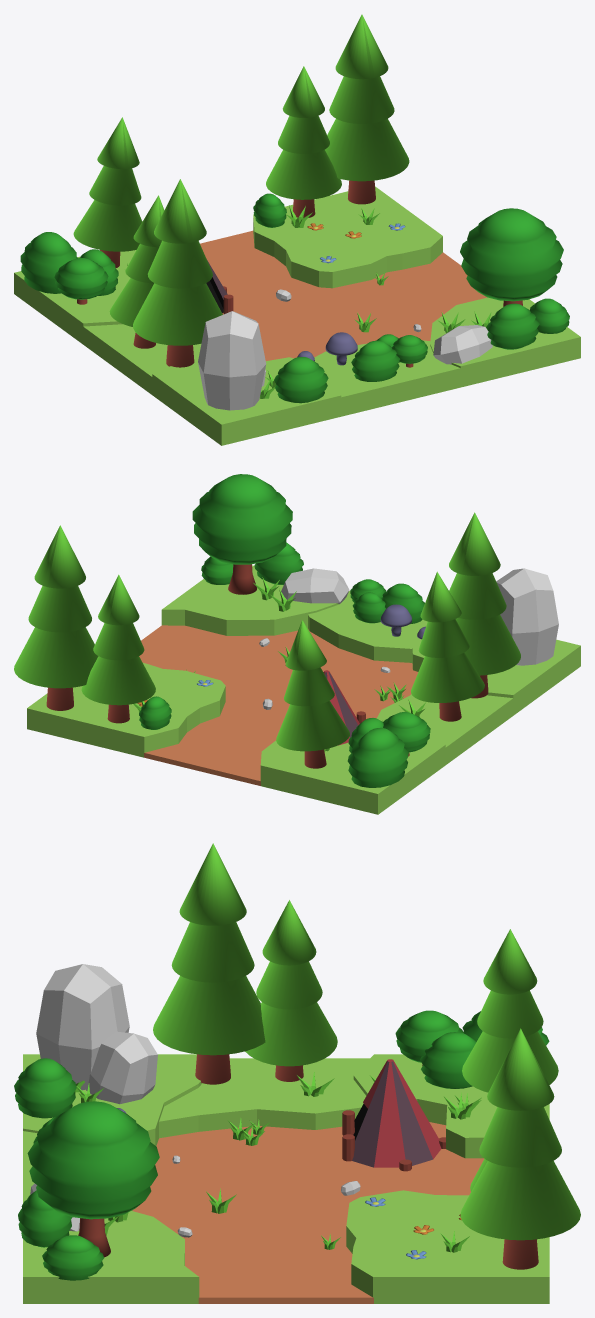
Rendered from jungle level set - 2 Way (1).fbx.
3 renders of one model, top to bottom at view 1: azimuth 30°, elevation 25°; view 2: azimuth 150°, elevation 25°; view 3: azimuth 270°, elevation 25°, orthographic. The views are drawn at different scales.
Visible parts, largest first — view 1: land_platform, tree_001, tree_006, tree_003, tree, tree_002, stone, tree_005, bush_003, bush_005, bush_004, tree_004 (+8 smaller); view 2: land_platform, tree_001, tree_003, tree_006, tree_005, tree, tree_002, stone, bush_003, stone_004, tree_004, bush_004 (+8 smaller); view 3: land_platform, tree_001, tree_006, tree_003, tree_005, stone, tree_002, camp, stone_001, bush_005, bush_001, bush (+2 smaller).
Boxes of the visible parts, x1,y1,x2,y2 form: land_platform: (14, 186, 580, 445); tree_001: (325, 14, 409, 204); tree_006: (133, 179, 222, 367); tree_003: (460, 208, 563, 306); tree: (266, 66, 341, 217); tree_002: (73, 117, 142, 267); stone: (198, 311, 266, 410); tree_005: (109, 195, 164, 348); bush_003: (20, 232, 77, 293); bush_005: (274, 357, 328, 403); bush_004: (486, 303, 539, 349); tree_004: (54, 258, 108, 304); land_platform: (27, 565, 580, 814); tree_001: (14, 525, 98, 710); tree_003: (192, 474, 292, 594); tree_006: (449, 512, 520, 698); tree_005: (411, 571, 484, 721); tree: (81, 574, 155, 723); tree_002: (276, 620, 349, 768); stone: (496, 568, 558, 665); bush_003: (347, 727, 408, 787); stone_004: (281, 568, 349, 603); tree_004: (383, 712, 430, 756); bush_004: (254, 542, 303, 584); land_platform: (23, 1054, 549, 1303); tree_001: (460, 1028, 580, 1269); tree_006: (153, 843, 265, 1084); tree_003: (27, 1101, 159, 1257); tree_005: (245, 900, 337, 1081); stone: (36, 964, 129, 1090); tree_002: (462, 929, 558, 1092); camp: (342, 1059, 445, 1171); stone_001: (86, 1031, 157, 1104); bush_005: (14, 1058, 76, 1118); bush_001: (420, 1032, 476, 1088); bush: (42, 1235, 103, 1280).
Bounding box in the file's own units: 16.26 × 8.53 × 16.34.
